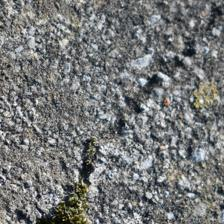Crack: (45, 14, 168, 134)
